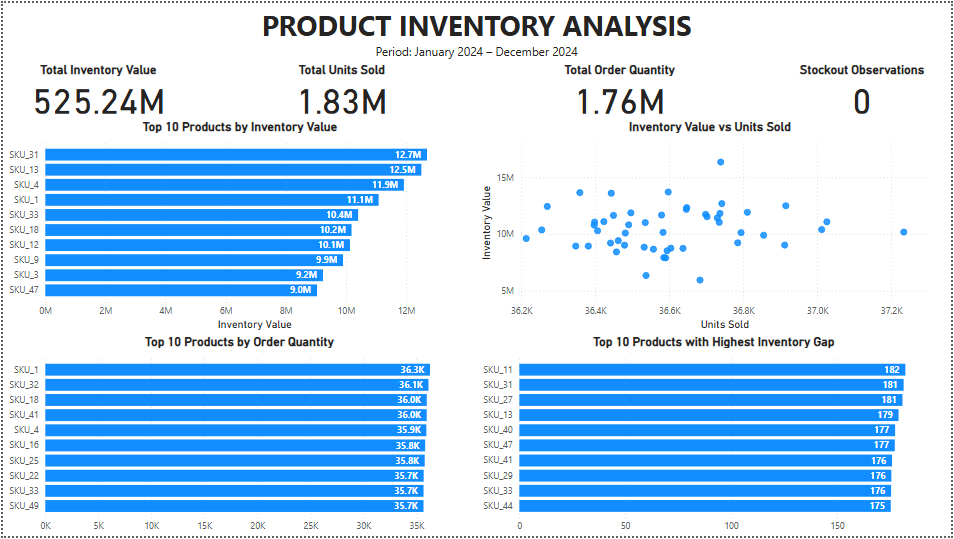

Layout of this report page (visuals, bound fields, positions):
{"tool":"powerbi","page":{"name":"Product Inventory Analysis","canvas":[1280,720],"ordinal":1},"visuals":[{"type":"textbox","box":[0,0,1280,81.1],"z":0},{"type":"card","title":"Total Inventory Value","fields":{"Values":["Sum(retail_sales vw_product_inventory.Inventory Value)"]},"box":[12.5,79.6,233.3,75],"z":1000},{"type":"card","title":"Total Order Quantity","fields":{"Values":["Sum(retail_sales vw_product_inventory.Order Quantity)"]},"box":[725.9,79.6,215.6,75],"z":2000},{"type":"card","title":"Stockout Observations","fields":{"Values":["Sum(retail_sales vw_product_inventory.Stockout Flag)"]},"box":[1051.4,79.6,218.9,75],"z":3000},{"type":"card","title":"Total Units Sold","fields":{"Values":["Sum(retail_sales vw_product_inventory.Units Sold)"]},"box":[334.8,79.6,245.6,75],"z":4000},{"type":"clusteredBarChart","title":"Top 10 Products by Inventory Value","fields":{"Y":["Sum(retail_sales vw_product_inventory.Inventory Value)"],"Category":["retail_sales vw_product_inventory.SKU"]},"box":[0,156.8,640.5,290],"z":5000},{"type":"scatterChart","title":"Inventory Value vs Units Sold","fields":{"X":["Sum(retail_sales vw_product_inventory.Units Sold)"],"Y":["Sum(retail_sales vw_product_inventory.Inventory Value)"],"Category":["retail_sales vw_product_inventory.SKU"]},"box":[640,156.2,640,291.2],"z":6000},{"type":"clusteredBarChart","title":"Top 10 Products by Order Quantity","fields":{"Category":["retail_sales vw_product_inventory.SKU"],"Y":["Sum(retail_sales vw_product_inventory.Order Quantity)"]},"box":[0,447.3,639.2,273],"z":7000},{"type":"clusteredBarChart","title":"Top 10 Products with  Highest Inventory Gap","fields":{"Category":["retail_sales vw_product_inventory.SKU"],"Y":["retail_sales vw_product_inventory.Avg Inventory Gap"]},"box":[640,447.1,640,272.9],"z":8000}]}

Visuals, with their boxes in screenshot pixels (x1, y1, x2, y2), scaled from the page's 1280x720 canvas onto the 954x539 screenshot:
textbox: (left=0, top=0, right=953, bottom=61)
"Total Inventory Value" card: (left=9, top=60, right=183, bottom=116)
"Total Order Quantity" card: (left=541, top=60, right=702, bottom=116)
"Stockout Observations" card: (left=784, top=60, right=947, bottom=116)
"Total Units Sold" card: (left=250, top=60, right=433, bottom=116)
"Top 10 Products by Inventory Value" clusteredBarChart: (left=0, top=117, right=477, bottom=334)
"Inventory Value vs Units Sold" scatterChart: (left=477, top=117, right=953, bottom=335)
"Top 10 Products by Order Quantity" clusteredBarChart: (left=0, top=335, right=476, bottom=538)
"Top 10 Products with  Highest Inventory Gap" clusteredBarChart: (left=477, top=335, right=953, bottom=538)
